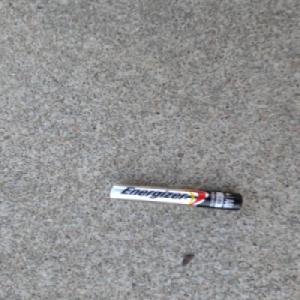Battery: (107, 181, 245, 211)
